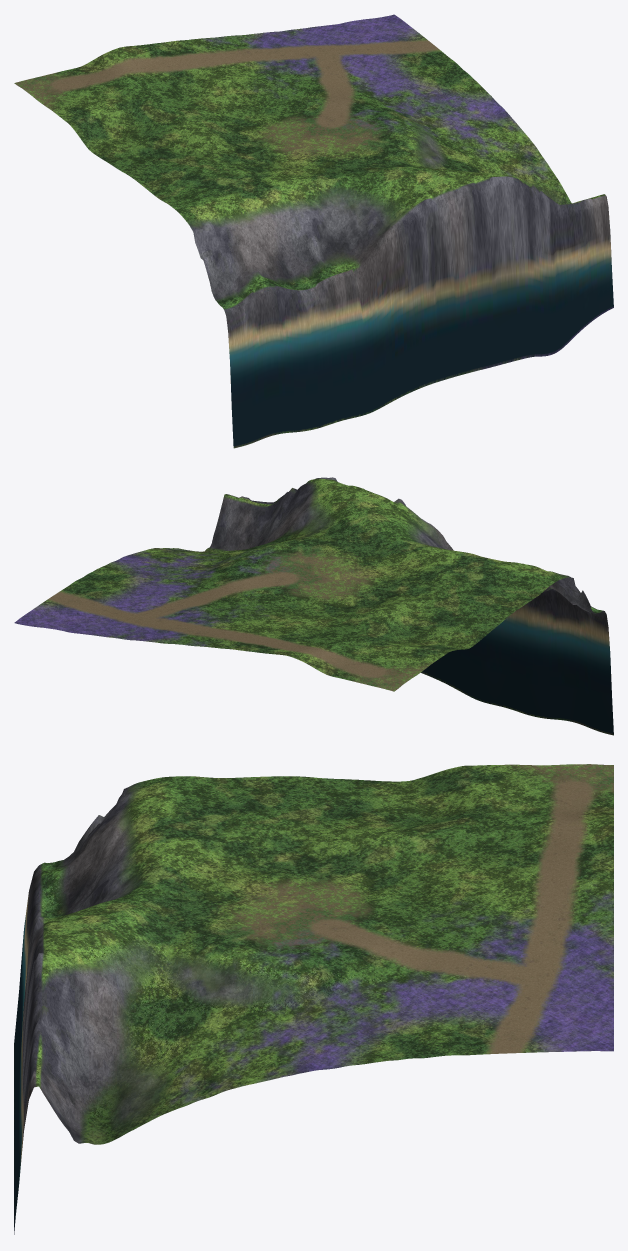
The picture shows the model from 3 angles, top to bottom: view 1: azimuth 30°, elevation 25°; view 2: azimuth 150°, elevation 25°; view 3: azimuth 270°, elevation 25°; orthographic projection. The views are drawn at different scales.
Parts seen in each view (by area): view 1: t064_000; view 2: t064_000; view 3: t064_000.
Boxes of the visible parts, x1,y1,x2,y2 form: t064_000: [14, 14, 613, 448]; t064_000: [14, 477, 613, 735]; t064_000: [14, 764, 613, 1234].
Size of the model in its own units: 64 by 34.55 by 64.
1 material, 1 textured.
